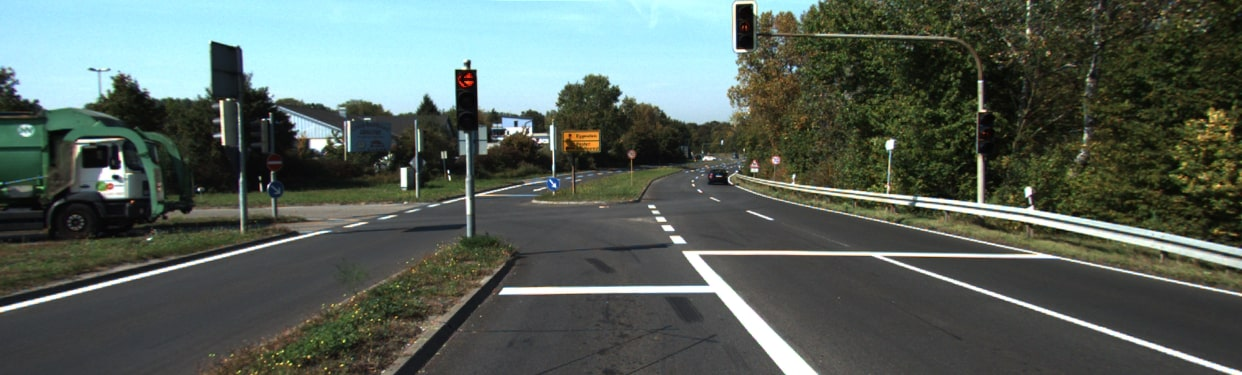car: (1, 113, 145, 238), (704, 166, 730, 188)
